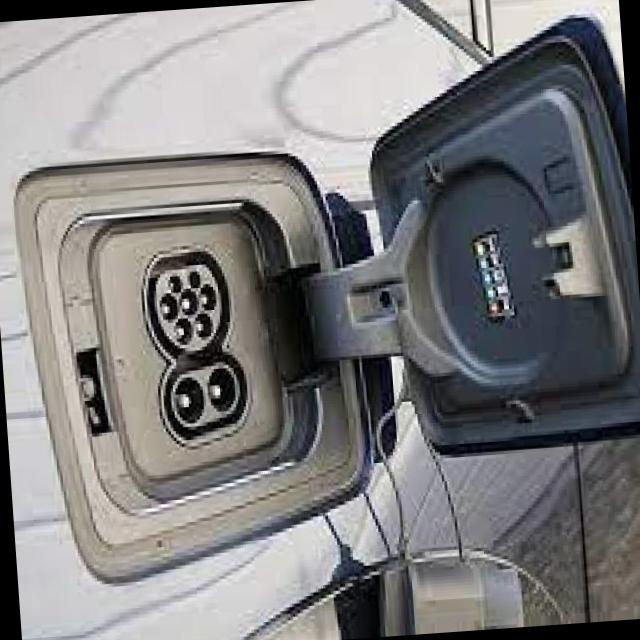inlet: (153, 263, 222, 352)
inlet-above-left: (169, 274, 182, 292)
inlet-above-right: (188, 271, 201, 288)
inlet-below-left: (175, 318, 193, 344)
inlet-below-right: (195, 312, 212, 337)
inlet-center: (179, 289, 199, 316)
inlet-center-left: (160, 293, 178, 320)
inlet-center-right: (201, 284, 217, 310)
